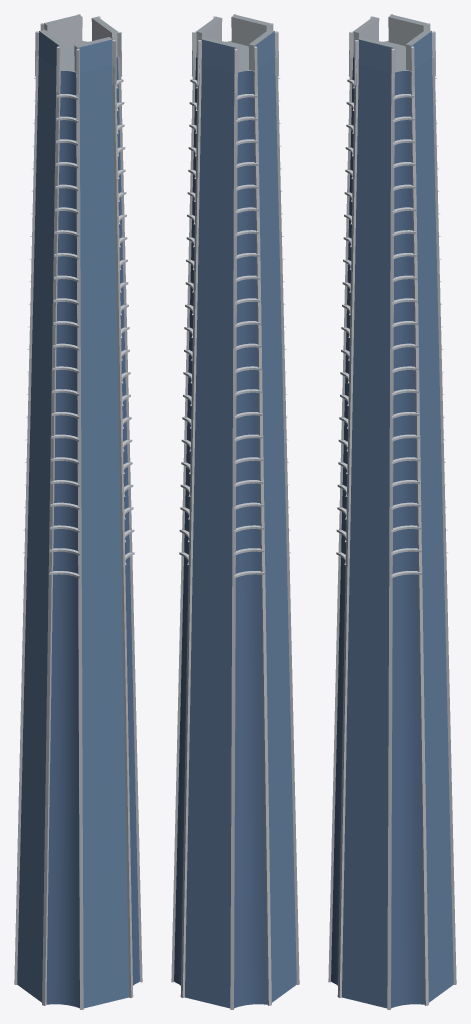
File: shenzhen-citymark-centre.glb
3 views of the same model, side by side, from view 1: azimuth 30°, elevation 25°; view 2: azimuth 150°, elevation 25°; view 3: azimuth 330°, elevation 25° (orthographic).
Parts seen in each view (by area): view 1: Citymark Centre; view 2: Citymark Centre; view 3: Citymark Centre.
Boxes of the visible parts, x1,y1,x2,y2 form: Citymark Centre: (14, 14, 142, 1009); Citymark Centre: (171, 14, 299, 1009); Citymark Centre: (328, 14, 456, 1009).
Size of the model in its own units: 42.82 by 388 by 42.82.
